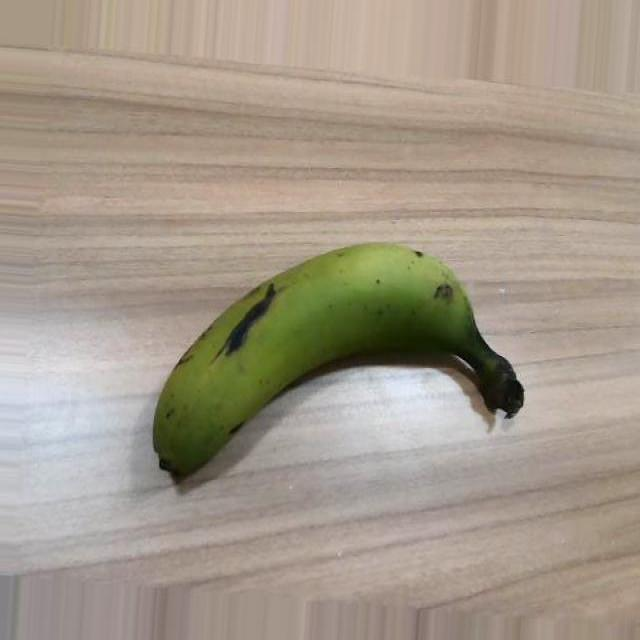Unripe: (152, 242, 523, 484)
